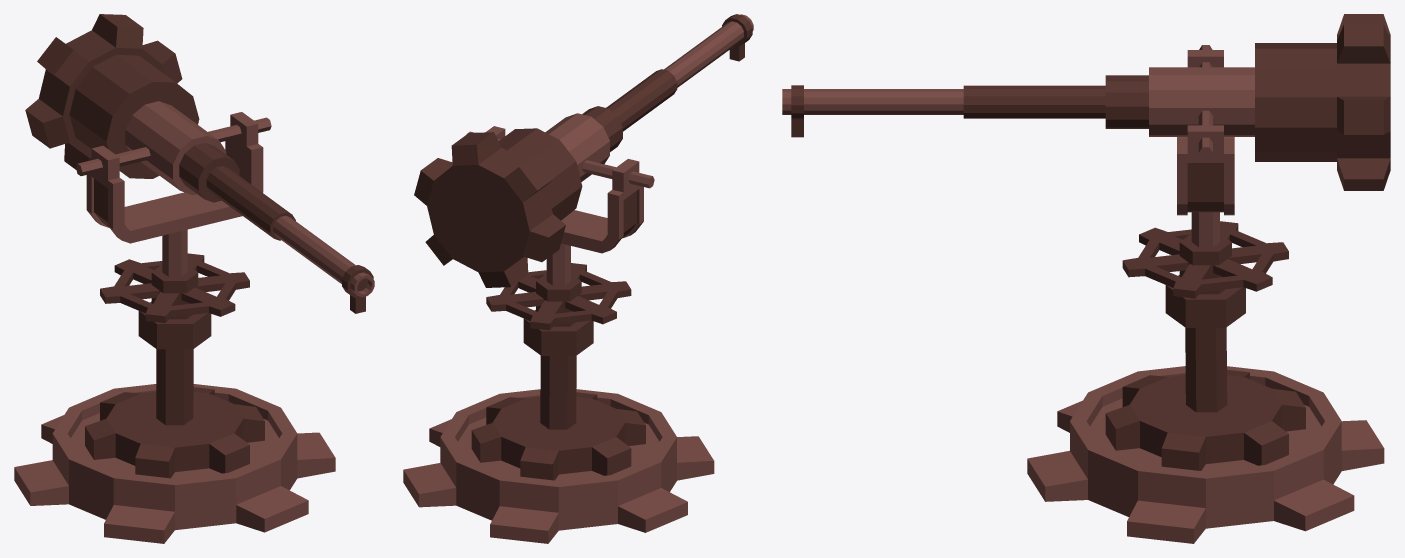
The model's file is gun_2.glb.
The picture shows the model from 3 angles, left to right: view 1: azimuth 30°, elevation 25°; view 2: azimuth 150°, elevation 25°; view 3: azimuth 270°, elevation 25°; orthographic projection. The views are drawn at different scales.
Visible parts, largest first — view 1: _MeshInstance3D_166, _MeshInstance3D_167, _MeshInstance3D_168; view 2: _MeshInstance3D_166, _MeshInstance3D_167, _MeshInstance3D_168; view 3: _MeshInstance3D_166, _MeshInstance3D_167, _MeshInstance3D_168.
Boxes of the visible parts, x1=… form: _MeshInstance3D_166: x1=14, y1=384, x2=335, y2=543; _MeshInstance3D_167: x1=25, y1=14, x2=374, y2=313; _MeshInstance3D_168: x1=76, y1=112, x2=271, y2=425; _MeshInstance3D_166: x1=403, y1=389, x2=714, y2=543; _MeshInstance3D_167: x1=414, y1=14, x2=753, y2=287; _MeshInstance3D_168: x1=466, y1=126, x2=654, y2=429; _MeshInstance3D_166: x1=1027, y1=366, x2=1384, y2=543; _MeshInstance3D_167: x1=782, y1=14, x2=1390, y2=190; _MeshInstance3D_168: x1=1122, y1=45, x2=1288, y2=412.
Size of the model in its own units: 1.38 by 1.91 by 2.35.
